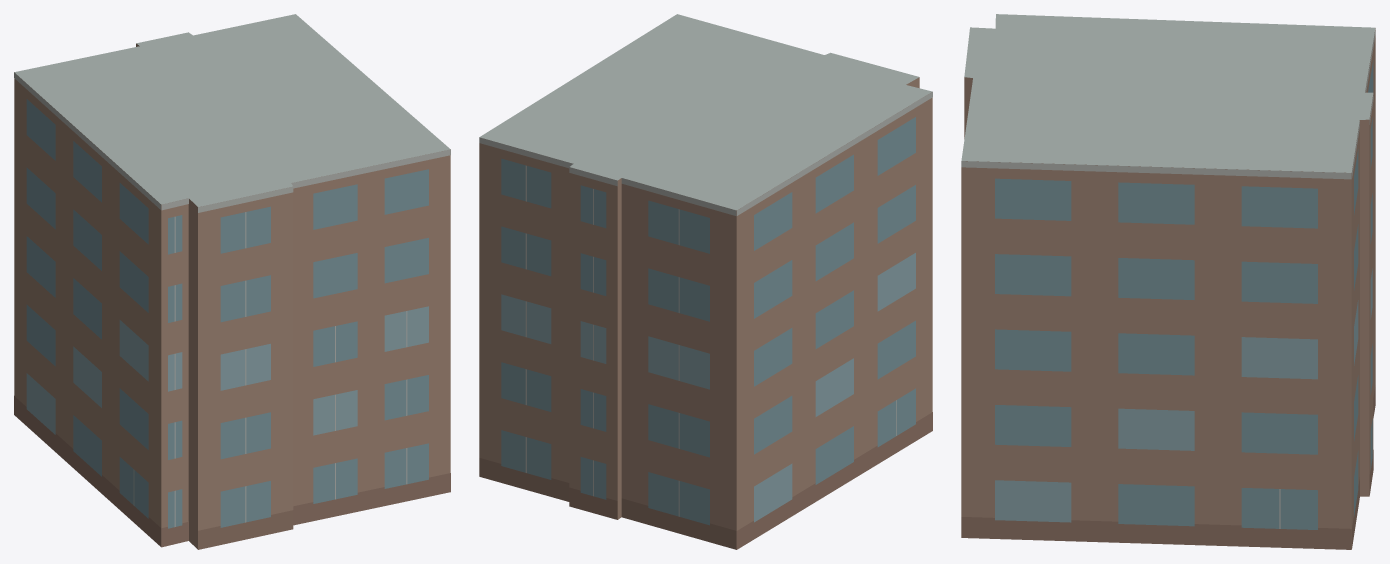
Rendered from survey-upis-32832337.glb.
3 renders of one model, left to right at view 1: azimuth 30°, elevation 25°; view 2: azimuth 150°, elevation 25°; view 3: azimuth 270°, elevation 25°, orthographic. The views are drawn at different scales.
Parts seen in each view (by area): view 1: survey-upis-32832337.tmp; view 2: survey-upis-32832337.tmp; view 3: survey-upis-32832337.tmp.
Boxes of the visible parts, x1,y1,x2,y2 form: survey-upis-32832337.tmp: [14, 14, 450, 549]; survey-upis-32832337.tmp: [479, 14, 932, 549]; survey-upis-32832337.tmp: [961, 14, 1375, 549].
Size of the model in its own units: 12.93 by 14.29 by 14.24.
